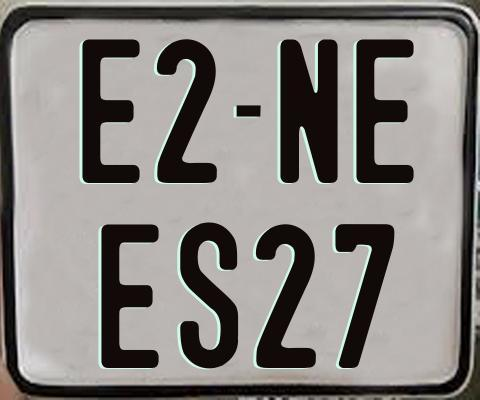2: (156, 36, 219, 185), (256, 222, 317, 370)
7: (334, 222, 394, 367)
E: (101, 224, 165, 372), (80, 39, 142, 183), (356, 38, 418, 182)
N: (278, 36, 341, 183)
S: (178, 222, 240, 371)
